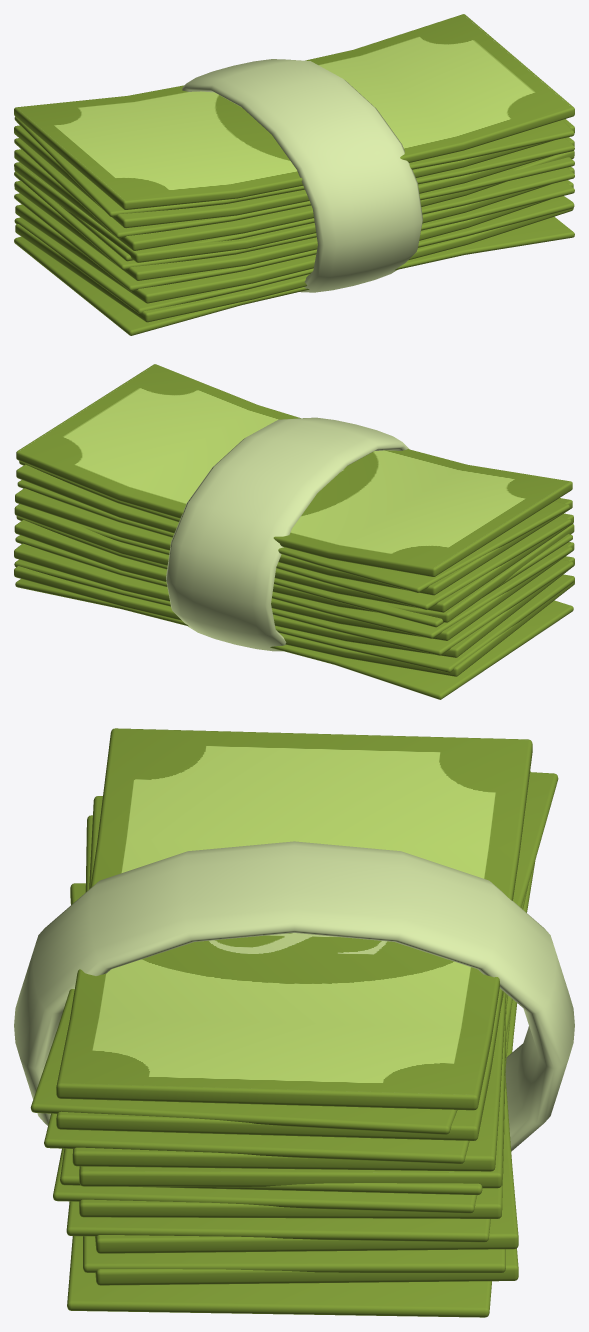
The model's file is money_mesh.fbx.
3 views of the same model, one above another, from view 1: azimuth 30°, elevation 25°; view 2: azimuth 150°, elevation 25°; view 3: azimuth 270°, elevation 25° (orthographic). The views are drawn at different scales.
Parts seen in each view (by area): view 1: money; view 2: money; view 3: money.
Boxes of the visible parts, x1,y1,x2,y2 form: money: [14, 14, 574, 335]; money: [14, 364, 574, 699]; money: [14, 728, 574, 1317].
Bounding box in the file's own units: 185 × 69.3 × 116.
2 materials, 1 textured.
